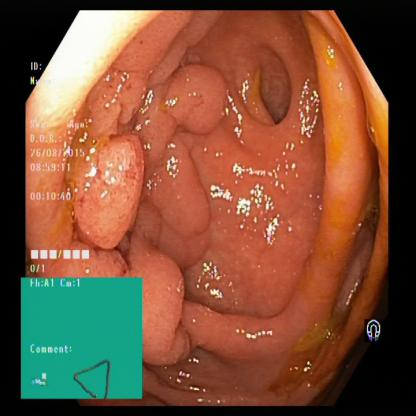Labels: (27, 48, 125, 282), (20, 278, 148, 402), (358, 307, 386, 351)
Polyps: (87, 68, 230, 246), (130, 247, 202, 357)
